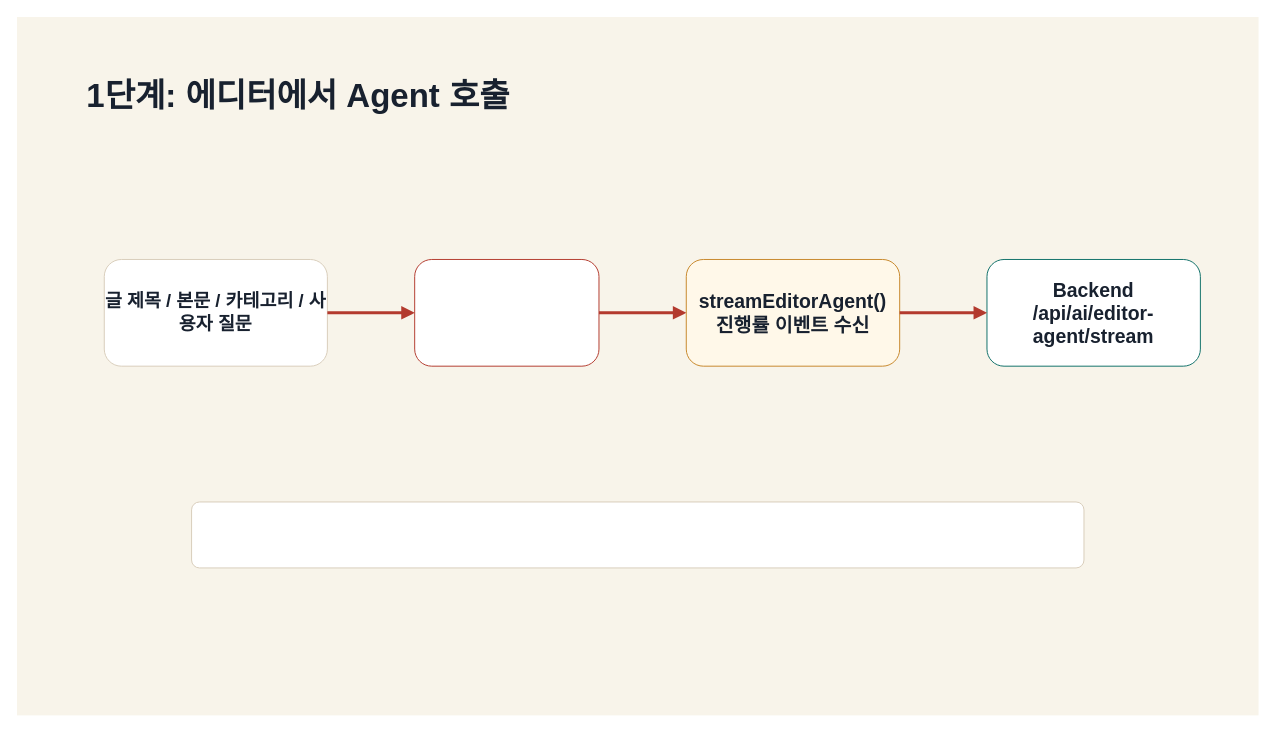
This 1275x731 diagram has some shape labels left out. The shapes that lost their labels are listed below. From the top down, each one's centre as x and y in pixels, then its label:
the point at 506,312: PostForm Agent 패널
the point at 637,534: 시연 포인트: 사용자는 그냥 에디터 옆 채팅창에 물어본다. 복잡한 RAG/MCP는 UI 밖에서 처리된다.
